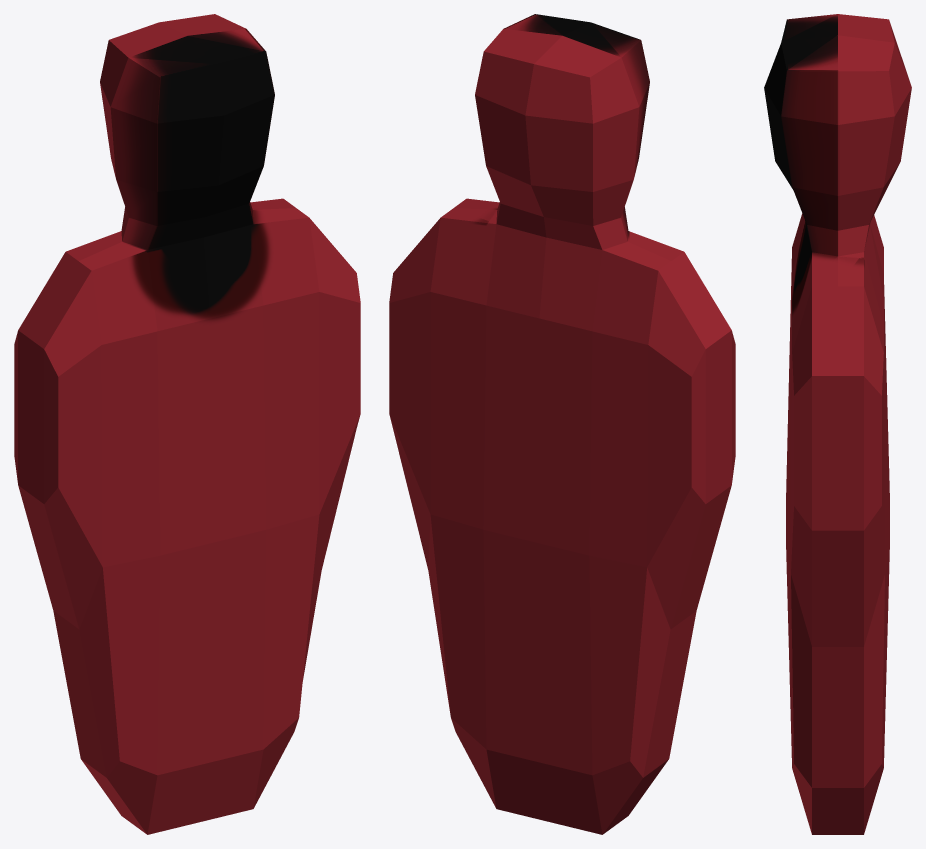
Rendered from Player.fbx.
3 views of the same model, side by side, from view 1: azimuth 30°, elevation 25°; view 2: azimuth 150°, elevation 25°; view 3: azimuth 270°, elevation 25° (orthographic).
Visible parts, largest first — view 1: Cube; view 2: Cube; view 3: Cube.
Boxes of the visible parts, x1,y1,x2,y2 form: Cube: (14, 14, 360, 834); Cube: (389, 14, 735, 834); Cube: (764, 14, 911, 834).
Size of the model in its own units: 295 by 700 by 121.
